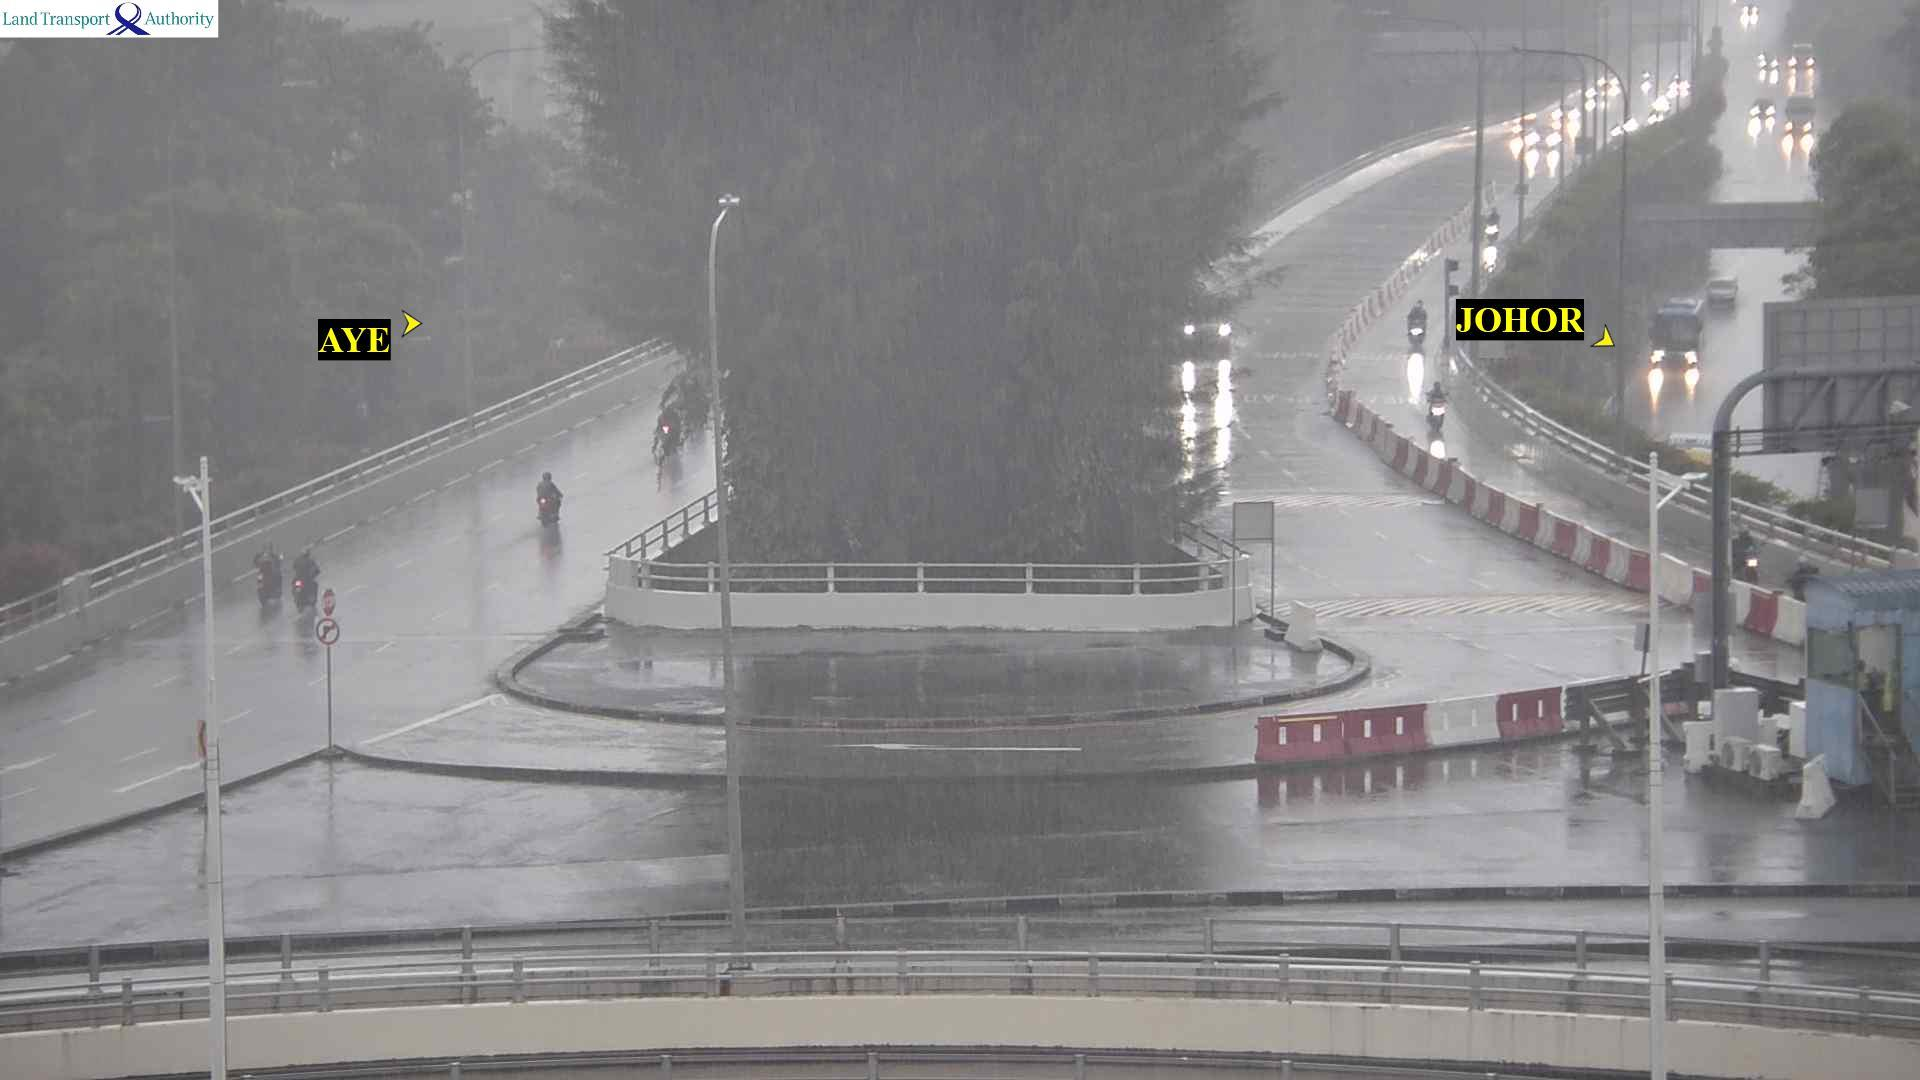vehicle-secondlink-johor: (1174, 301, 1240, 361), (1729, 526, 1763, 575), (1410, 294, 1429, 345), (1425, 378, 1447, 423), (1528, 125, 1555, 153), (1481, 206, 1497, 243), (1510, 117, 1534, 137)
vehicle-secondlink-singapore: (253, 538, 281, 605), (295, 542, 320, 608), (549, 475, 578, 526)
